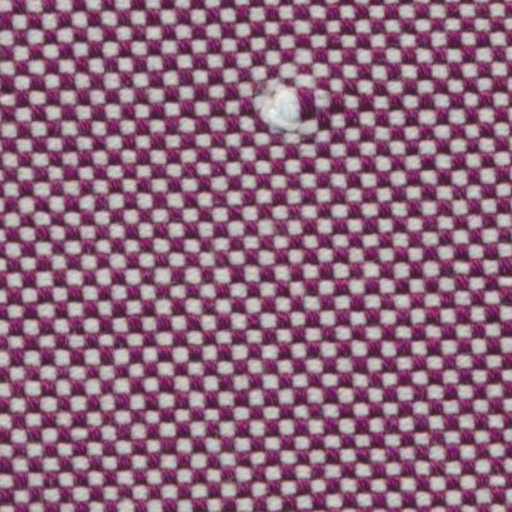MianQiu: (240, 58, 364, 166)
